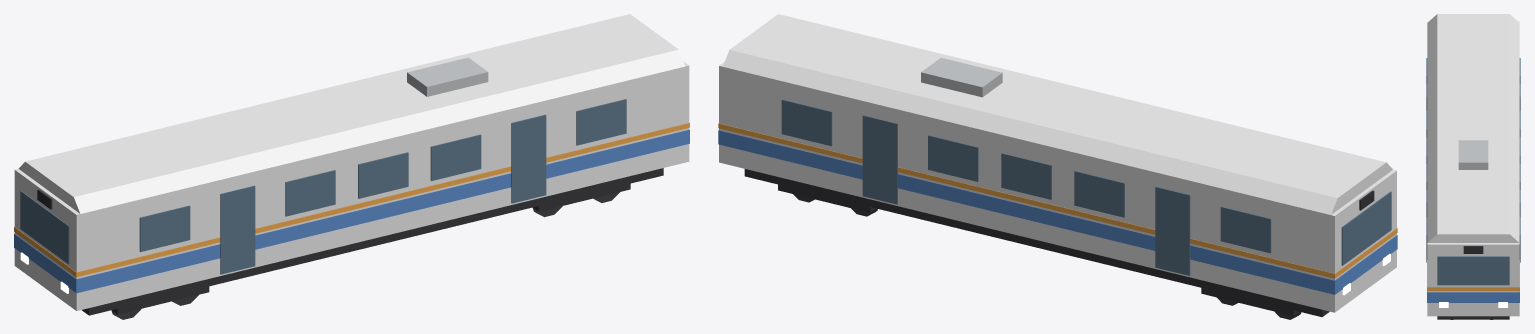
Rendered from densha.glb.
The picture shows the model from 3 angles, left to right: view 1: azimuth 30°, elevation 25°; view 2: azimuth 150°, elevation 25°; view 3: azimuth 270°, elevation 25°; orthographic projection. The views are drawn at different scales.
Parts seen in each view (by area): view 1: densha; view 2: densha; view 3: densha.
Part boxes in pixels (left/top/right/bottom): densha: left=14, top=14, right=689, bottom=319; densha: left=718, top=14, right=1397, bottom=319; densha: left=1426, top=14, right=1520, bottom=319.
Bounding box in the file's own units: 16.09 × 3.83 × 2.86.
